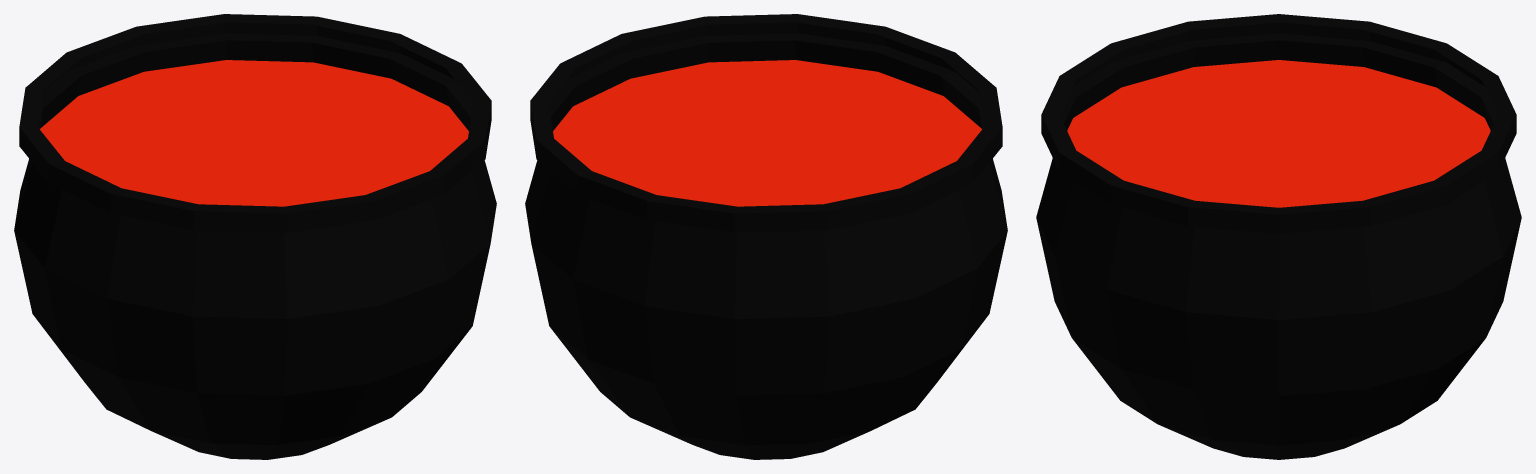
The model's file is Cauldron.glb.
3 views of the same model, side by side, from view 1: azimuth 30°, elevation 25°; view 2: azimuth 150°, elevation 25°; view 3: azimuth 270°, elevation 25° (orthographic).
Parts seen in each view (by area): view 1: Sphere, Cylinder; view 2: Sphere, Cylinder; view 3: Sphere, Cylinder.
Part boxes in pixels (<box>): Sphere: <box>14,14,496,459</box>; Cylinder: <box>40,60,468,206</box>; Sphere: <box>525,14,1007,459</box>; Cylinder: <box>553,60,981,206</box>; Sphere: <box>1036,14,1521,459</box>; Cylinder: <box>1067,60,1490,207</box>.
Size of the model in its own units: 2 by 1.47 by 2.
2 materials, 2 textured.
